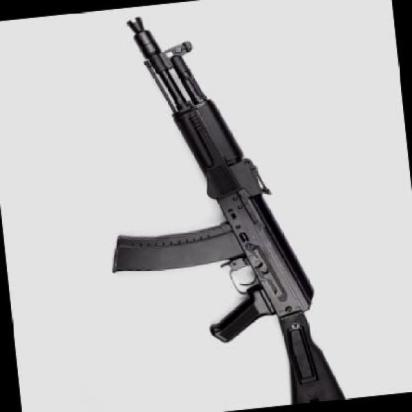Gun: (109, 31, 353, 407)
